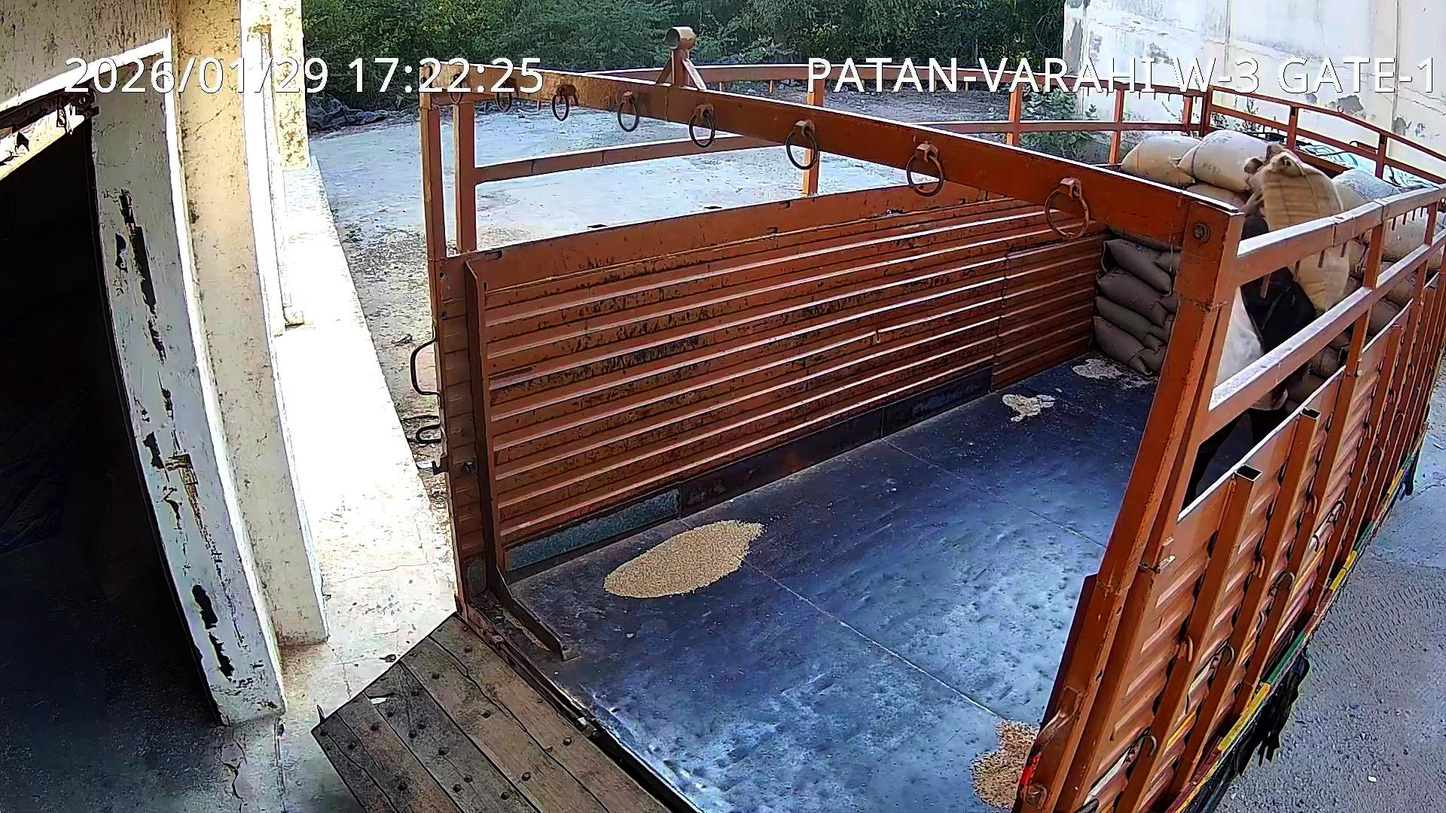Sack: (1245, 144, 1344, 230), (1295, 252, 1347, 312)
